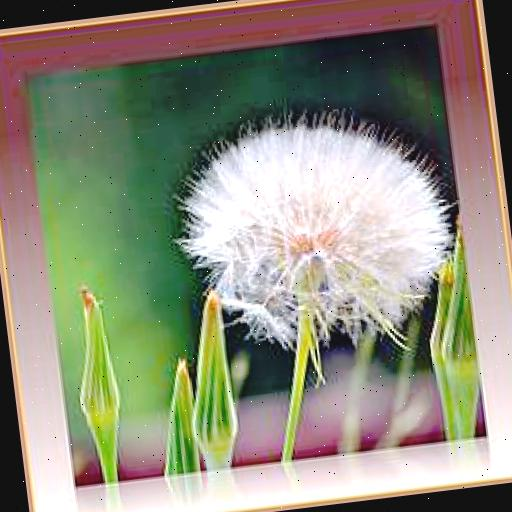dandelion: (171, 106, 458, 357)
